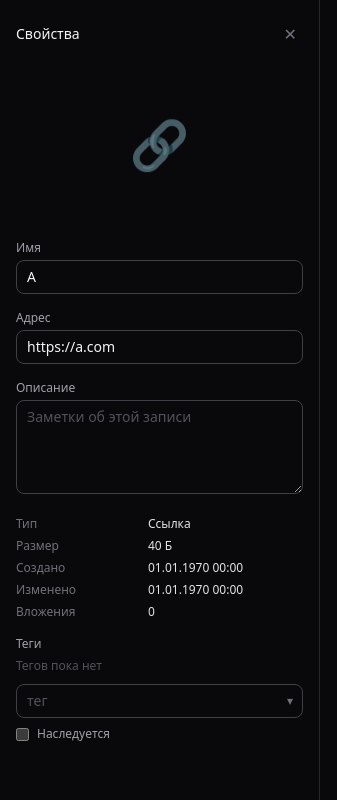
Test: PropertiesPanel: правка на месте › адрес не http(s) - сообщение под полем
Replace the text in the field labelled "Адрес" with "ftp://x" at (160, 347), box [16,330,303,364]
Then press Enter
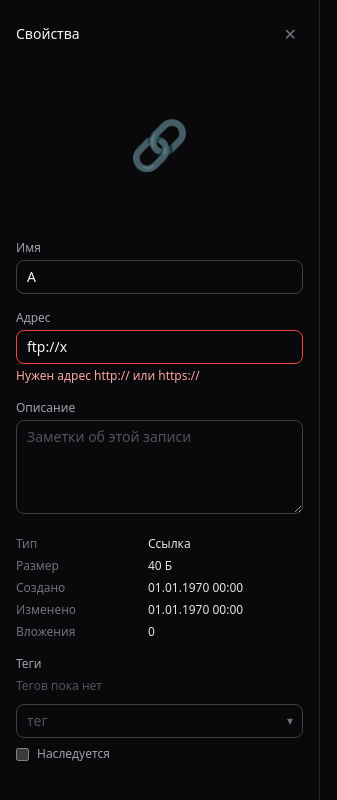
Expected: the message shows "http", [16,367,200,384]
